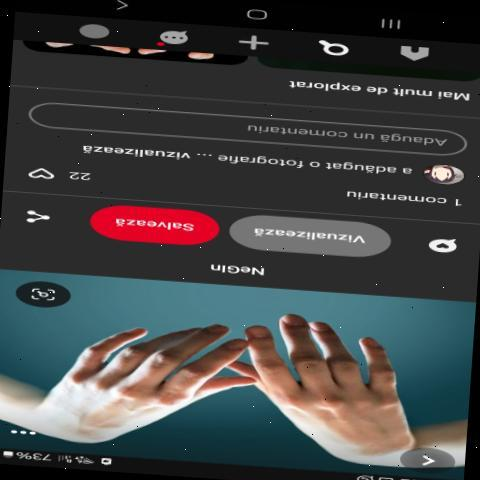Hands: (0, 301, 246, 474), (230, 293, 460, 469)
